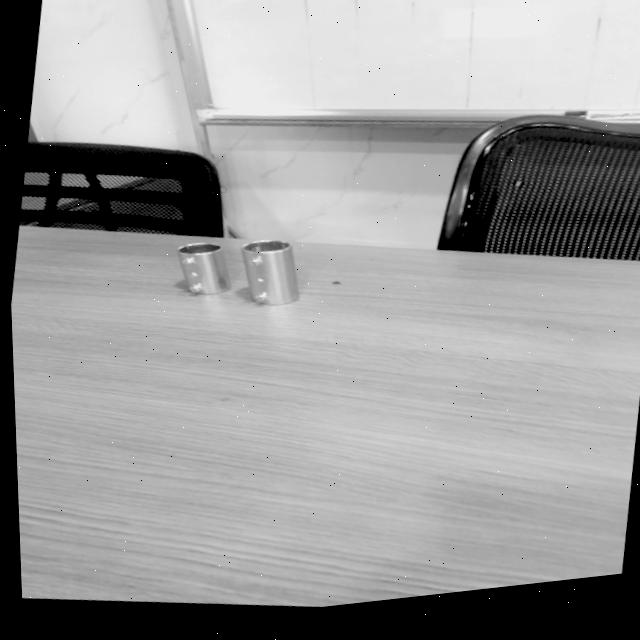Co_Lon: (240, 236, 300, 308)
Co_Nho: (176, 236, 232, 300)
